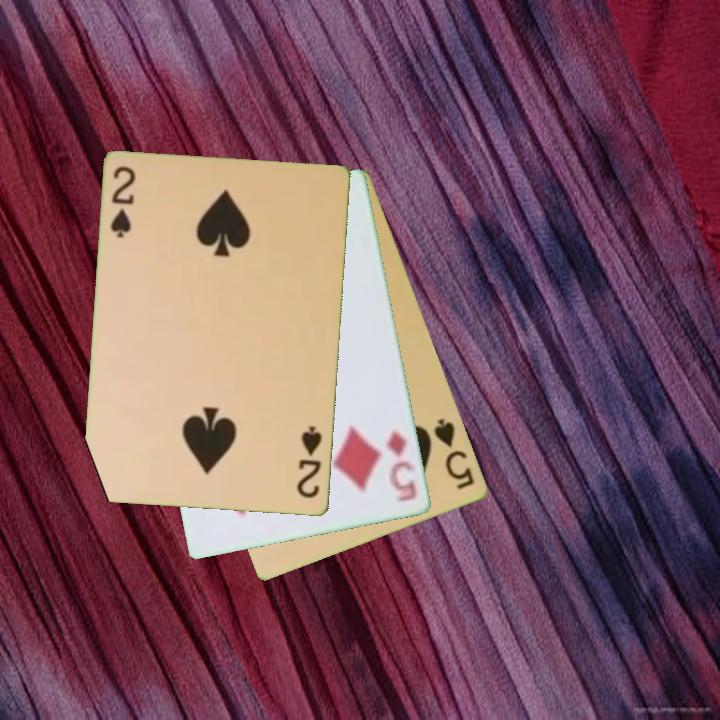2s: (293, 423, 325, 501), (107, 163, 139, 241)
5d: (383, 427, 420, 505)
5s: (431, 415, 478, 493)
